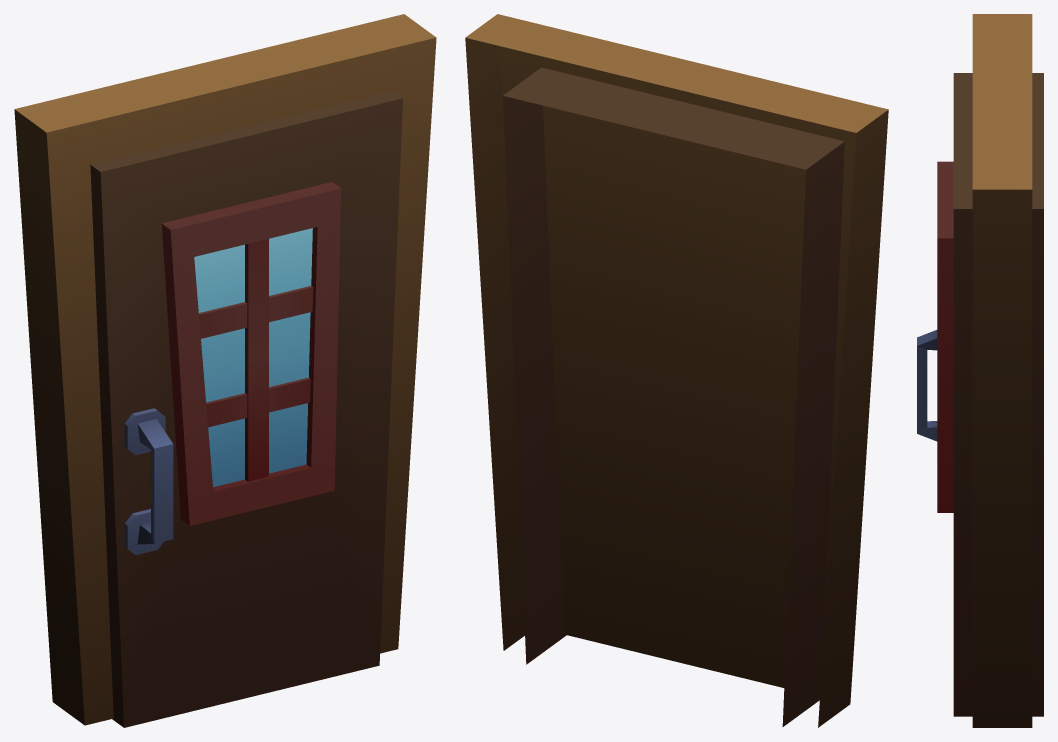
The model's file is Door_06B.fbx.
3 views of the same model, side by side, from view 1: azimuth 30°, elevation 25°; view 2: azimuth 150°, elevation 25°; view 3: azimuth 270°, elevation 25° (orthographic). The views are drawn at different scales.
Parts seen in each view (by area): view 1: Door_06B; view 2: Door_06B; view 3: Door_06B.
Part boxes in pixels (left/top/right/bottom): Door_06B: left=14, top=14, right=436, bottom=727; Door_06B: left=465, top=14, right=888, bottom=727; Door_06B: left=917, top=14, right=1043, bottom=727.
Size of the model in its own units: 161 by 239 by 49.2.
3 materials, 3 textured.
